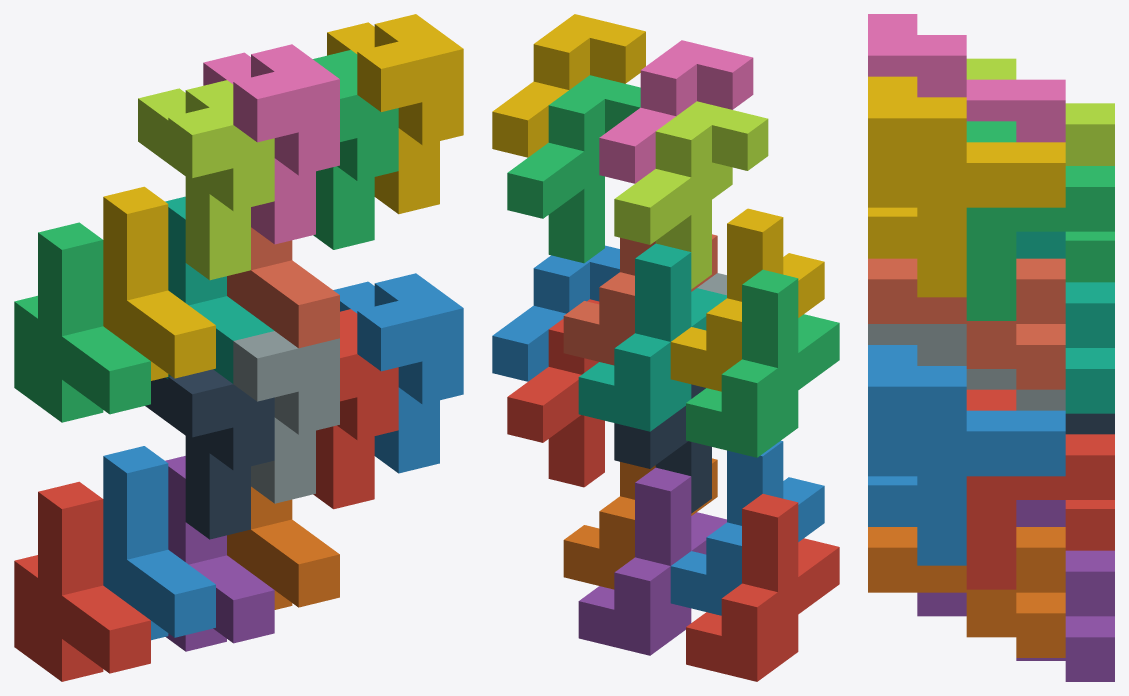
Rendered from tiling.obj.
The picture shows the model from 3 angles, left to right: view 1: azimuth 30°, elevation 25°; view 2: azimuth 150°, elevation 25°; view 3: azimuth 270°, elevation 25°; orthographic projection. The views are drawn at different scales.
Parts seen in each view (by area): view 1: copy_1_domain_3, copy_1_domain_1, copy_2_domain_3, copy_2_domain_8, copy_2_domain_4, copy_2_domain_6, copy_1_domain_2, copy_1_domain_4, copy_2_domain_1, copy_2_domain_2, copy_2_domain_7, copy_2_domain_5 (+4 smaller); view 2: copy_1_domain_3, copy_1_domain_1, copy_2_domain_3, copy_1_domain_5, copy_1_domain_7, copy_2_domain_7, copy_1_domain_4, copy_2_domain_4, copy_2_domain_8, copy_1_domain_2, copy_2_domain_5, copy_2_domain_6 (+3 smaller); view 3: copy_2_domain_6, copy_2_domain_8, copy_1_domain_6, copy_1_domain_8, copy_2_domain_4, copy_2_domain_7, copy_2_domain_5, copy_1_domain_5, copy_1_domain_7, copy_2_domain_2, copy_2_domain_3, copy_1_domain_4 (+4 smaller).
Boxes of the visible parts, x1=… form: copy_1_domain_3: x1=14, y1=222, x2=150, y2=422; copy_1_domain_1: x1=14, y1=481, x2=150, y2=681; copy_2_domain_3: x1=138, y1=80, x2=274, y2=280; copy_2_domain_8: x1=327, y1=14, x2=463, y2=214; copy_2_domain_4: x1=203, y1=44, x2=339, y2=244; copy_2_domain_6: x1=333, y1=273, x2=463, y2=473; copy_1_domain_2: x1=103, y1=446, x2=215, y2=640; copy_1_domain_4: x1=103, y1=186, x2=215, y2=380; copy_2_domain_1: x1=145, y1=369, x2=274, y2=539; copy_2_domain_2: x1=233, y1=331, x2=339, y2=503; copy_2_domain_7: x1=313, y1=50, x2=398, y2=249; copy_2_domain_5: x1=313, y1=309, x2=398, y2=509; copy_1_domain_3: x1=686, y1=269, x2=839, y2=457; copy_1_domain_1: x1=686, y1=494, x2=839, y2=681; copy_2_domain_3: x1=614, y1=101, x2=768, y2=289; copy_1_domain_5: x1=578, y1=467, x2=726, y2=655; copy_1_domain_7: x1=578, y1=243, x2=726, y2=431; copy_2_domain_7: x1=507, y1=75, x2=640, y2=263; copy_1_domain_4: x1=670, y1=208, x2=824, y2=391; copy_2_domain_4: x1=599, y1=40, x2=753, y2=183; copy_2_domain_8: x1=492, y1=14, x2=645, y2=157; copy_1_domain_2: x1=670, y1=440, x2=824, y2=615; copy_2_domain_5: x1=507, y1=299, x2=604, y2=487; copy_2_domain_6: x1=492, y1=245, x2=619, y2=381; copy_2_domain_6: x1=868, y1=345, x2=1065, y2=565; copy_2_domain_8: x1=868, y1=76, x2=1065, y2=297; copy_1_domain_6: x1=868, y1=527, x2=1065, y2=657; copy_1_domain_8: x1=868, y1=258, x2=1065, y2=389; copy_2_domain_4: x1=868, y1=14, x2=1065, y2=142; copy_2_domain_7: x1=966, y1=121, x2=1114, y2=320; copy_2_domain_5: x1=966, y1=389, x2=1114, y2=589; copy_1_domain_5: x1=917, y1=500, x2=1114, y2=681; copy_1_domain_7: x1=1016, y1=231, x2=1114, y2=413; copy_2_domain_2: x1=868, y1=324, x2=1065, y2=410; copy_2_domain_3: x1=966, y1=58, x2=1114, y2=165; copy_1_domain_4: x1=868, y1=207, x2=917, y2=258.
Bounding box in the file's own units: 8 × 14 × 5.
